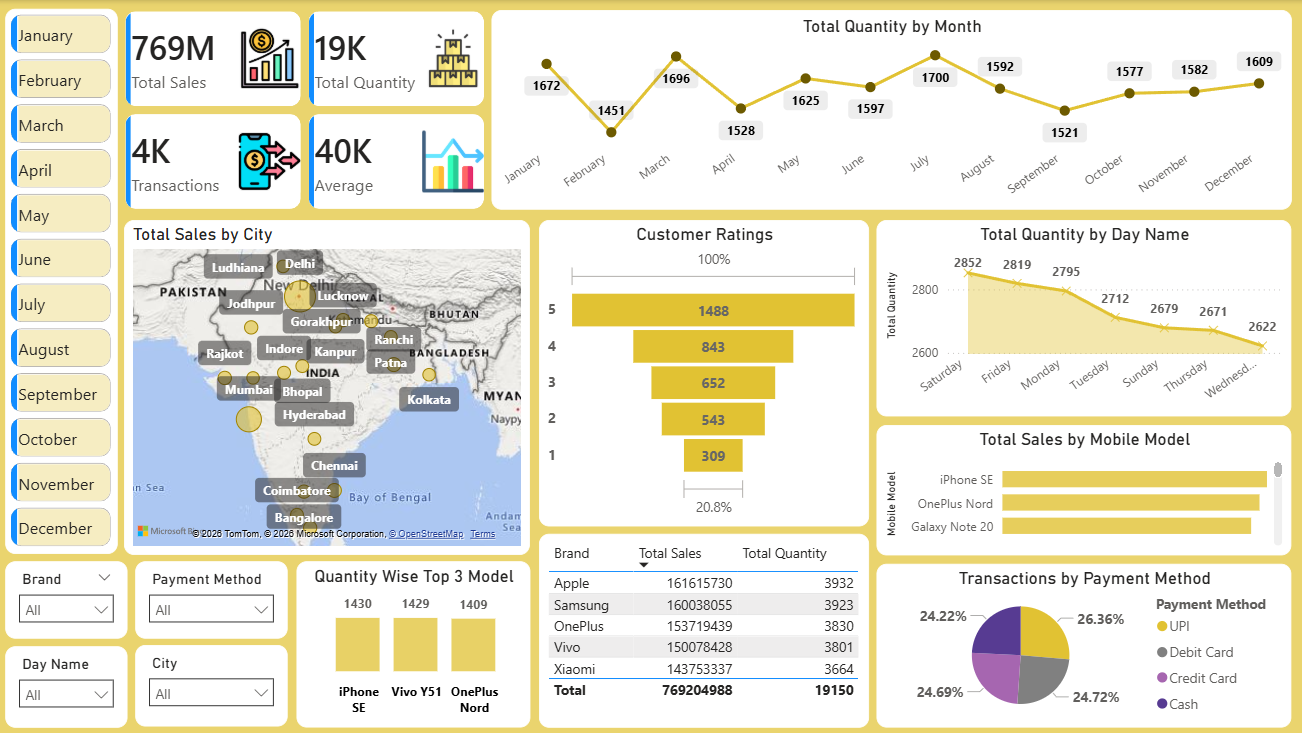

The dashboard page shown, as its layout file describes it:
{"tool":"powerbi","page":{"name":"Page 1","canvas":[1280,720],"ordinal":0},"visuals":[{"type":"advancedSlicerVisual","fields":{"Values":["Sheet1.Date.Variation.Date Hierarchy.Month"]},"box":[6.1,8,110.4,535],"z":0},{"type":"lineChart","fields":{"Category":["Sheet1.Date.Variation.Date Hierarchy.Month","Sheet1.Date.Variation.Date Hierarchy.Day"],"Y":["Sheet1.Total Quantity"]},"box":[483.4,9.8,785.3,196.3],"z":1000},{"type":"clusteredColumnChart","title":"Quantity Wise Top 3 Model","fields":{"Y":["Sheet1.Total Quantity"],"Category":["Sheet1.Mobile Model"]},"box":[292,550.9,229.4,163.2],"z":2000},{"type":"pieChart","fields":{"Category":["Sheet1.Payment Method"],"Y":["Sheet1.Transactions"]},"box":[861.4,553.4,407.4,160.7],"z":3000},{"type":"map","fields":{"Category":["Sheet1.City"],"Size":["Sheet1.Total Sales"]},"box":[122.7,216,398.8,328.8],"z":4000},{"type":"tableEx","fields":{"Values":["Sheet1.Brand","Sheet1.Total Sales","Sheet1.Total Quantity"]},"box":[530.1,523.9,323.9,190.2],"z":5000},{"type":"areaChart","fields":{"Category":["Sheet1.Day Name"],"Y":["Sheet1.Total Quantity"]},"box":[861.4,216,407.4,192.6],"z":6000},{"type":"funnel","title":"Customer Ratings","fields":{"Category":["Sheet1.Customer Ratings"],"Y":["CountNonNull(Sheet1.Customer Ratings)"]},"box":[530.1,216,323.9,300.6],"z":7000},{"type":"barChart","fields":{"Y":["Sheet1.Total Sales"],"Category":["Sheet1.Mobile Model"]},"box":[861.4,417.2,407.4,127.6],"z":8000},{"type":"slicer","fields":{"Values":["Sheet1.Payment Method"]},"box":[133.7,550.9,149.7,76.1],"z":9000},{"type":"slicer","fields":{"Values":["Sheet1.Brand"]},"box":[6.1,550.9,120.2,76.1],"z":10000},{"type":"slicer","fields":{"Values":["Sheet1.City"]},"box":[133.7,633.1,149.7,79.8],"z":11000},{"type":"cardVisual","fields":{"Data":["Sheet1.Total Sales","Sheet1.Total Quantity","Sheet1.Transactions","Sheet1.Average"]},"box":[117.8,4.9,365.6,206.1],"z":12000},{"type":"slicer","fields":{"Values":["Sheet1.Day Name"]},"box":[6.1,634.4,120.2,79.8],"z":13000}]}

Visuals, with their boxes in screenshot pixels (x1, y1, x2, y2), scaled from the page's 1280x720 canvas onto the 1302x733 screenshot:
advancedSlicerVisual - Sheet1.Date.Variation.Date Hierarchy.Month: <box>6,8,119,553</box>
lineChart - Sheet1.Date.Variation.Date Hierarchy.Month x Sheet1.Date.Variation.Date Hierarchy.Day: <box>492,10,1291,210</box>
"Quantity Wise Top 3 Model" clusteredColumnChart: <box>297,561,530,727</box>
pieChart - Sheet1.Payment Method x Sheet1.Transactions: <box>876,563,1291,727</box>
map - Sheet1.City x Sheet1.Total Sales: <box>125,220,530,555</box>
tableEx - Sheet1.Brand x Sheet1.Total Sales: <box>539,533,869,727</box>
areaChart - Sheet1.Day Name x Sheet1.Total Quantity: <box>876,220,1291,416</box>
"Customer Ratings" funnel: <box>539,220,869,526</box>
barChart - Sheet1.Total Sales x Sheet1.Mobile Model: <box>876,425,1291,555</box>
slicer - Sheet1.Payment Method: <box>136,561,288,638</box>
slicer - Sheet1.Brand: <box>6,561,128,638</box>
slicer - Sheet1.City: <box>136,645,288,726</box>
cardVisual - Sheet1.Total Sales x Sheet1.Total Quantity: <box>120,5,492,215</box>
slicer - Sheet1.Day Name: <box>6,646,128,727</box>
